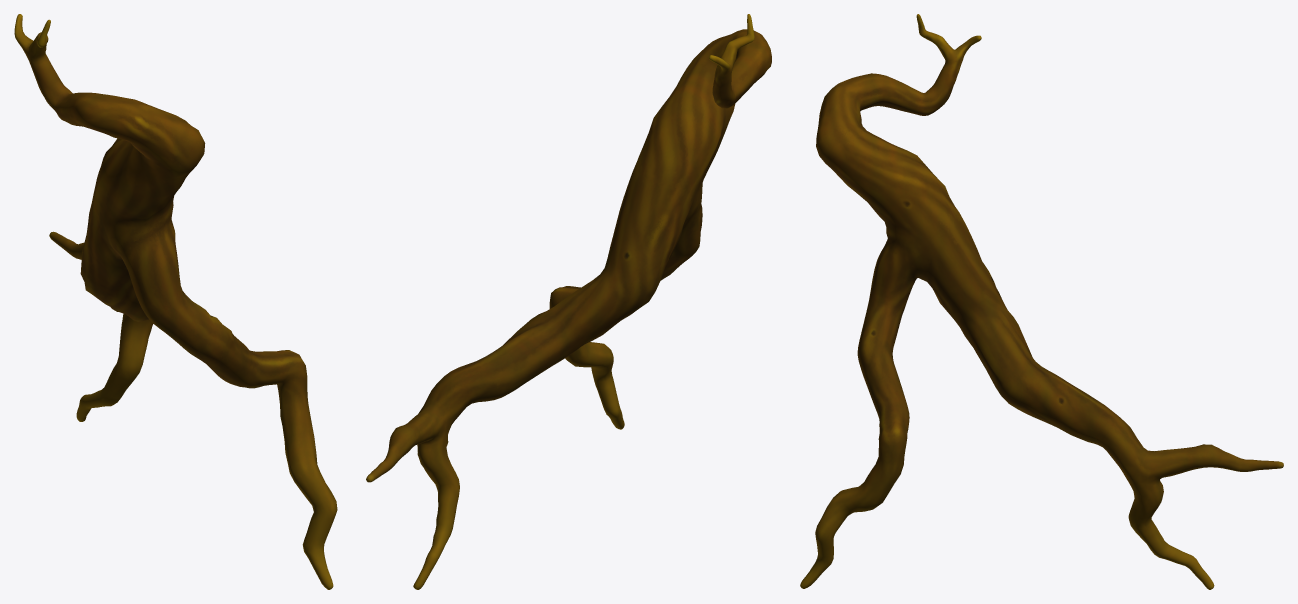
File: SM_Root_1_Trunk.fbx
3 views of the same model, side by side, from view 1: azimuth 30°, elevation 25°; view 2: azimuth 150°, elevation 25°; view 3: azimuth 270°, elevation 25° (orthographic). The views are drawn at different scales.
Parts seen in each view (by area): view 1: SM_Root_1_Trunk_LOD0; view 2: SM_Root_1_Trunk_LOD0; view 3: SM_Root_1_Trunk_LOD0.
Part boxes in pixels (x1=…): SM_Root_1_Trunk_LOD0: x1=14, y1=14, x2=337, y2=589; SM_Root_1_Trunk_LOD0: x1=366, y1=14, x2=771, y2=589; SM_Root_1_Trunk_LOD0: x1=800, y1=14, x2=1283, y2=589.
Size of the model in its own units: 475 by 931 by 1041.
Materials: 1 (1 with a texture image).
